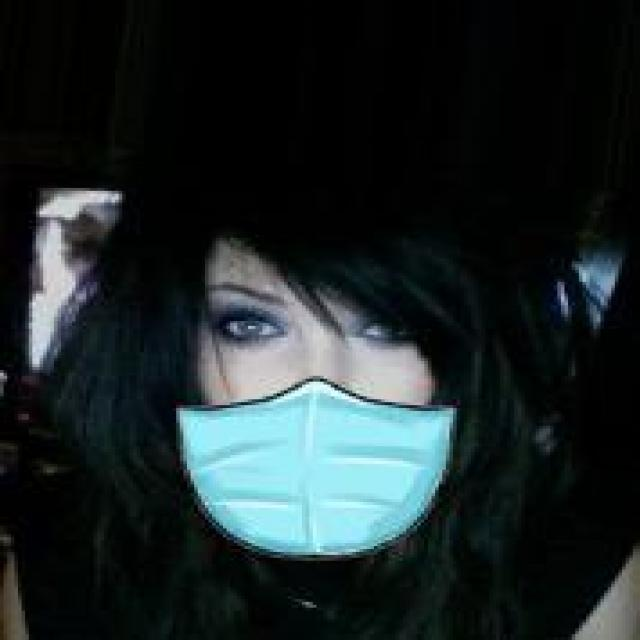mask: (104, 79, 543, 561)
